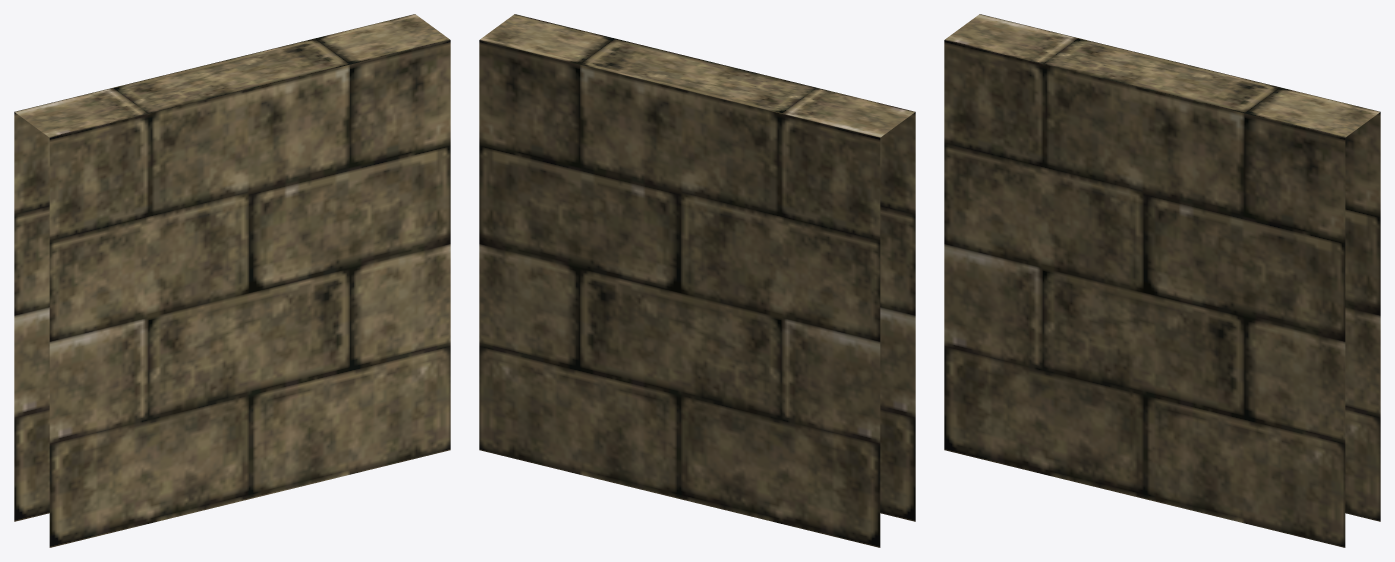
Rendered from ANIMATEDINSTANCES_TRAP_DOOR_02__AI.fbx.
3 renders of one model, left to right at view 1: azimuth 30°, elevation 25°; view 2: azimuth 150°, elevation 25°; view 3: azimuth 330°, elevation 25°, orthographic.
Parts seen in each view (by area): view 1: ANIMATEDINSTANCES_TRAP_DOOR_02__AI; view 2: ANIMATEDINSTANCES_TRAP_DOOR_02__AI; view 3: ANIMATEDINSTANCES_TRAP_DOOR_02__AI.
Part boxes in pixels (bbox=[...]): ANIMATEDINSTANCES_TRAP_DOOR_02__AI: bbox=[14, 14, 450, 547]; ANIMATEDINSTANCES_TRAP_DOOR_02__AI: bbox=[479, 14, 915, 547]; ANIMATEDINSTANCES_TRAP_DOOR_02__AI: bbox=[944, 14, 1380, 547].
Bounding box in the file's own units: 32623 × 31882 × 5014.
1 material, 1 textured.
